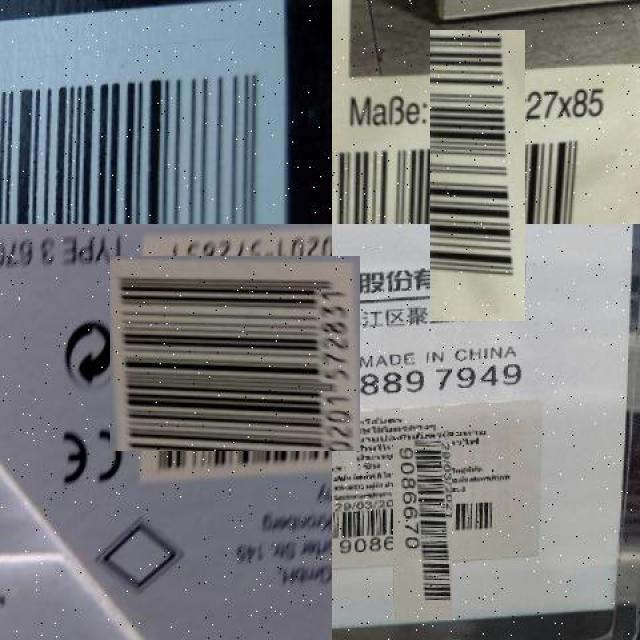Barcode: (0, 0, 300, 224), (123, 242, 346, 465), (381, 79, 574, 273), (362, 470, 482, 590)
